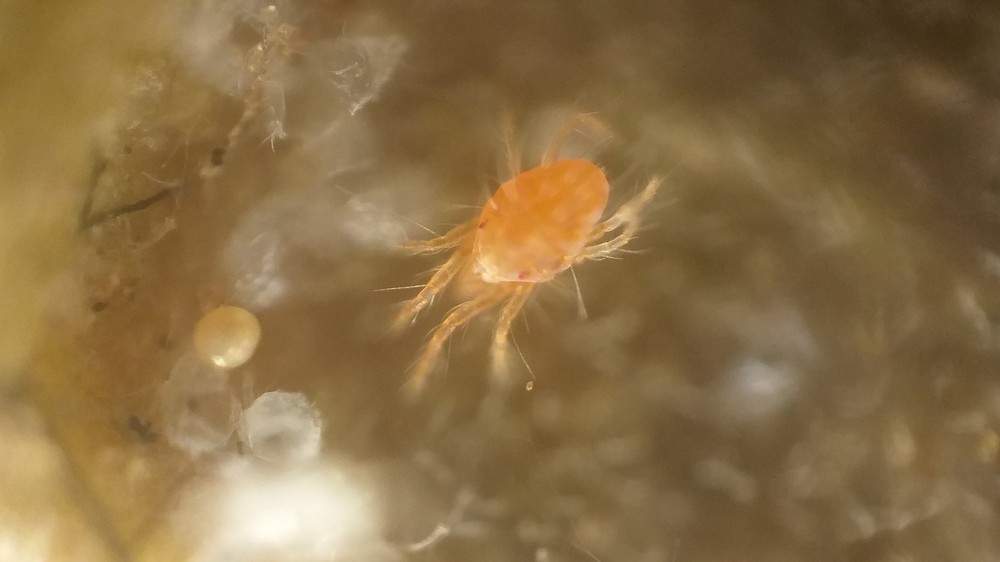Aracnido Rojo: (368, 105, 689, 407)
